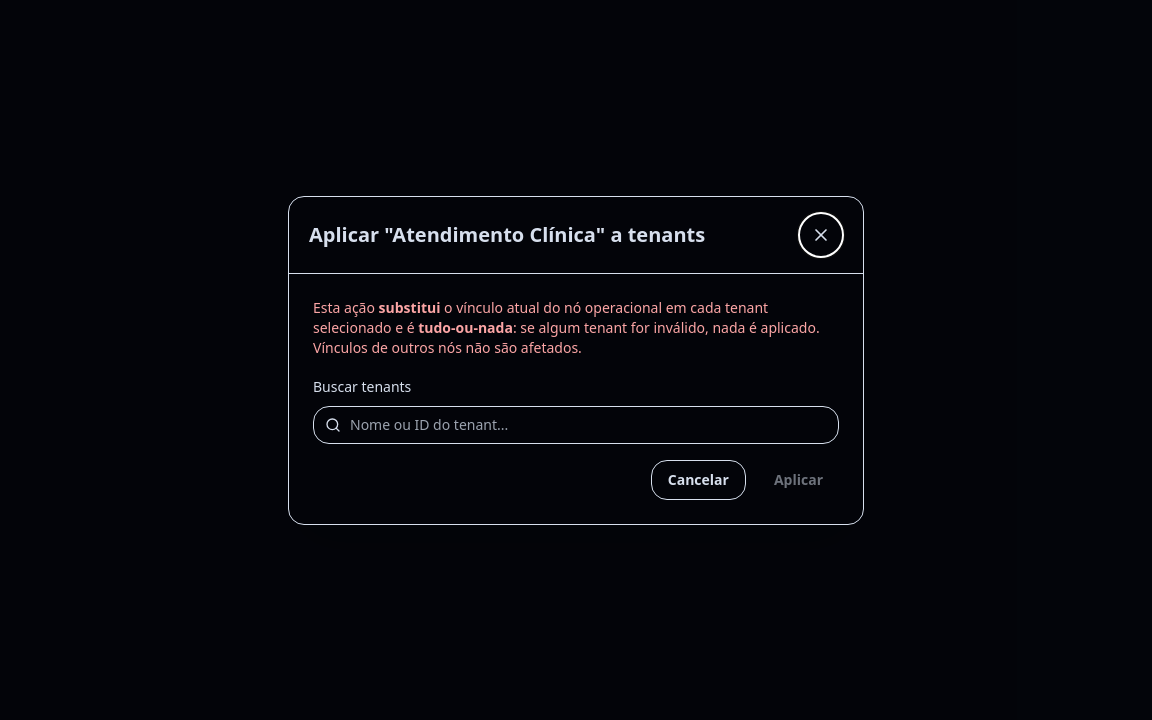
BulkTenantLinkModal › shows the linked count on success
Type "Acme Ltda" into the field labelled "Buscar tenants".
click(576, 424); type("Acme Ltda")  # box [313,406,839,444]
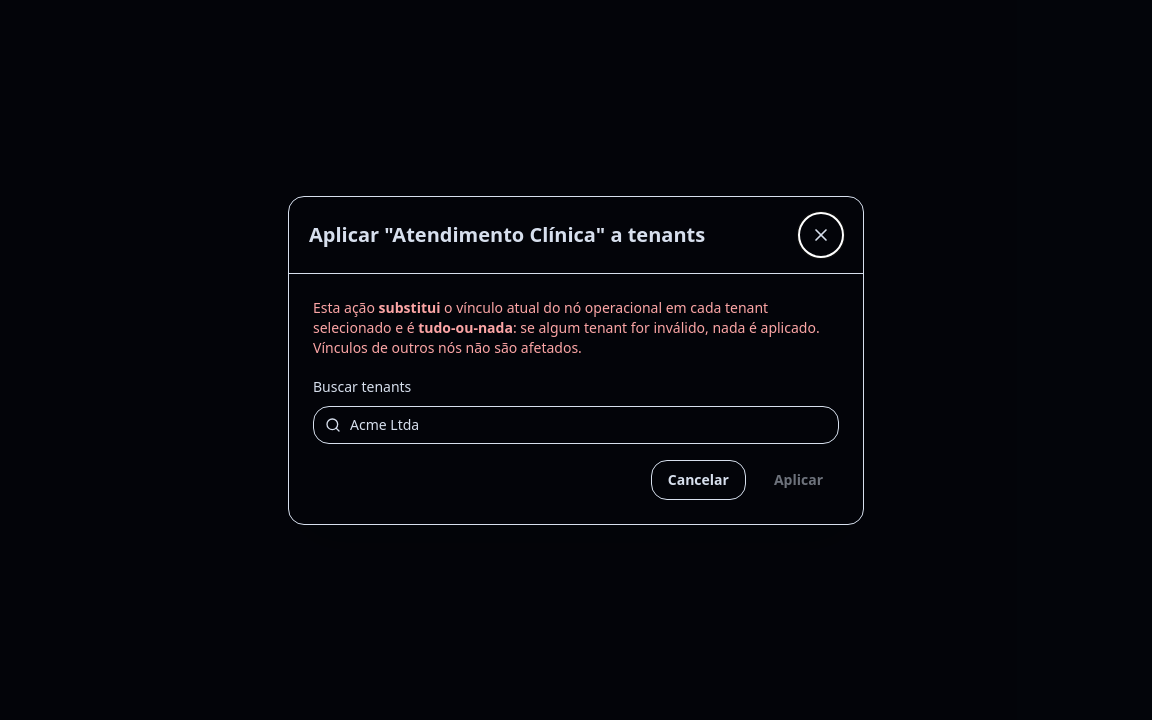
Press Enter in the field labelled "Buscar tenants", box [313,406,839,444]
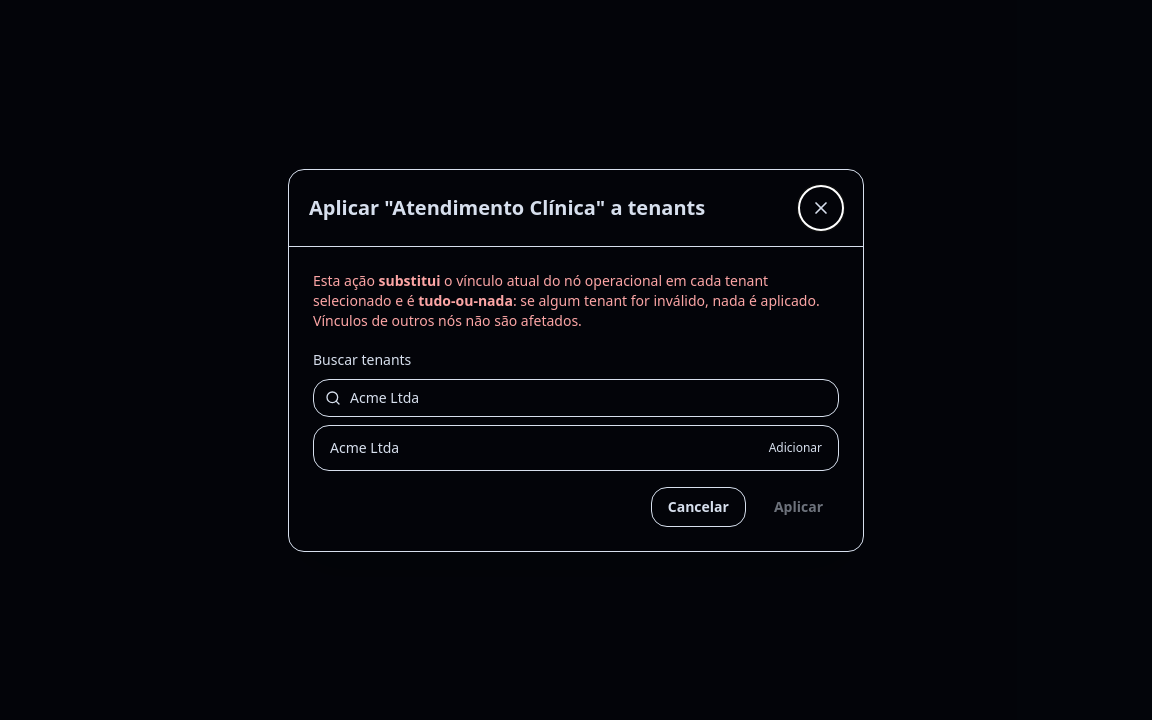
Expected: the text "Acme Ltda" is shown
Click the text "Acme Ltda".
click(365, 448)  # box [330,438,399,458]
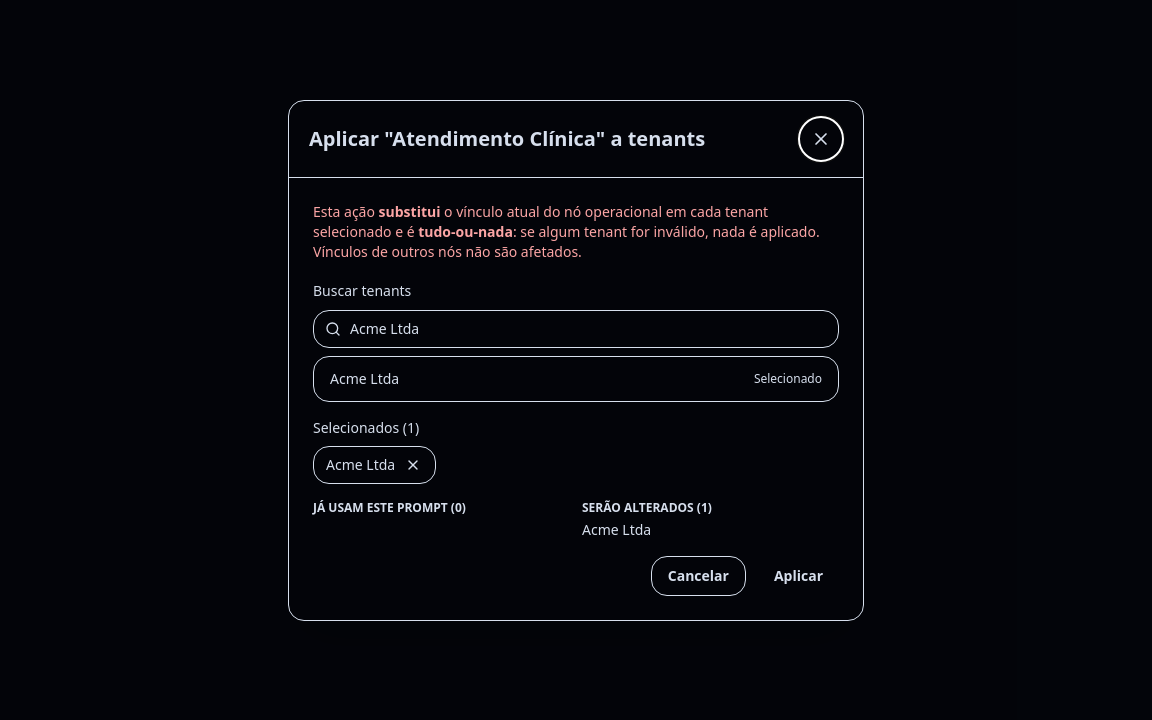
Click the button "Aplicar".
click(798, 576)  # box [758,556,839,596]
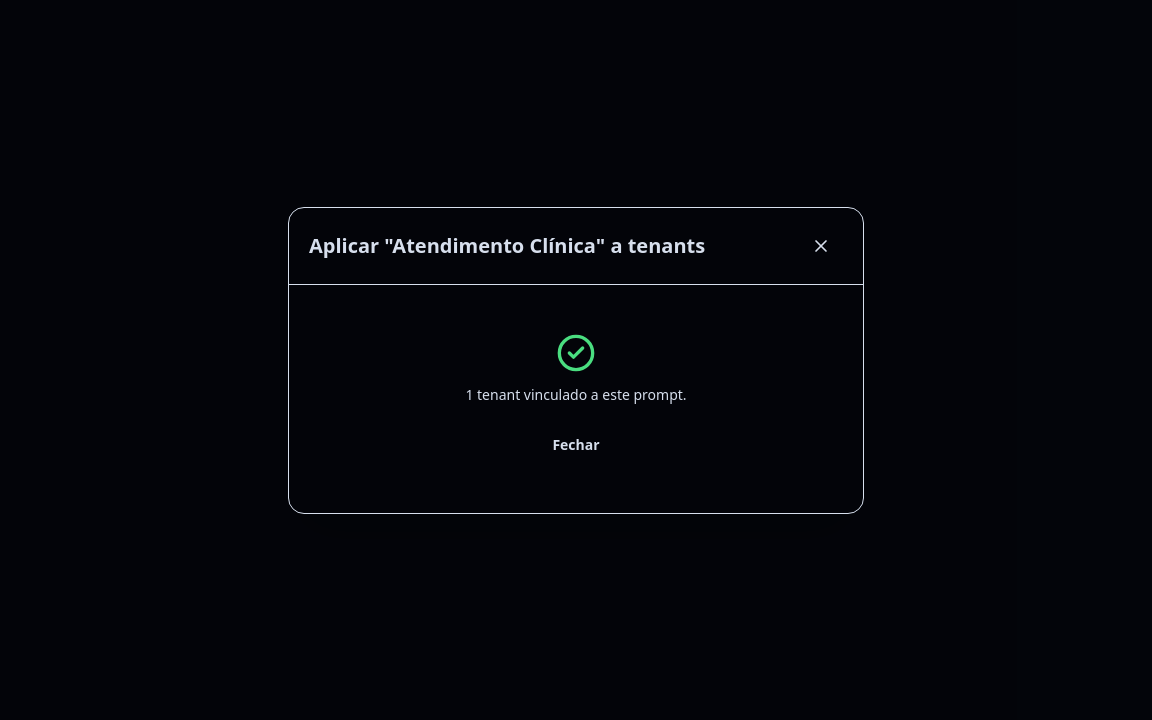
Expected: the text "1 tenant vinculado a este prompt." is shown, [465,384,687,404]
